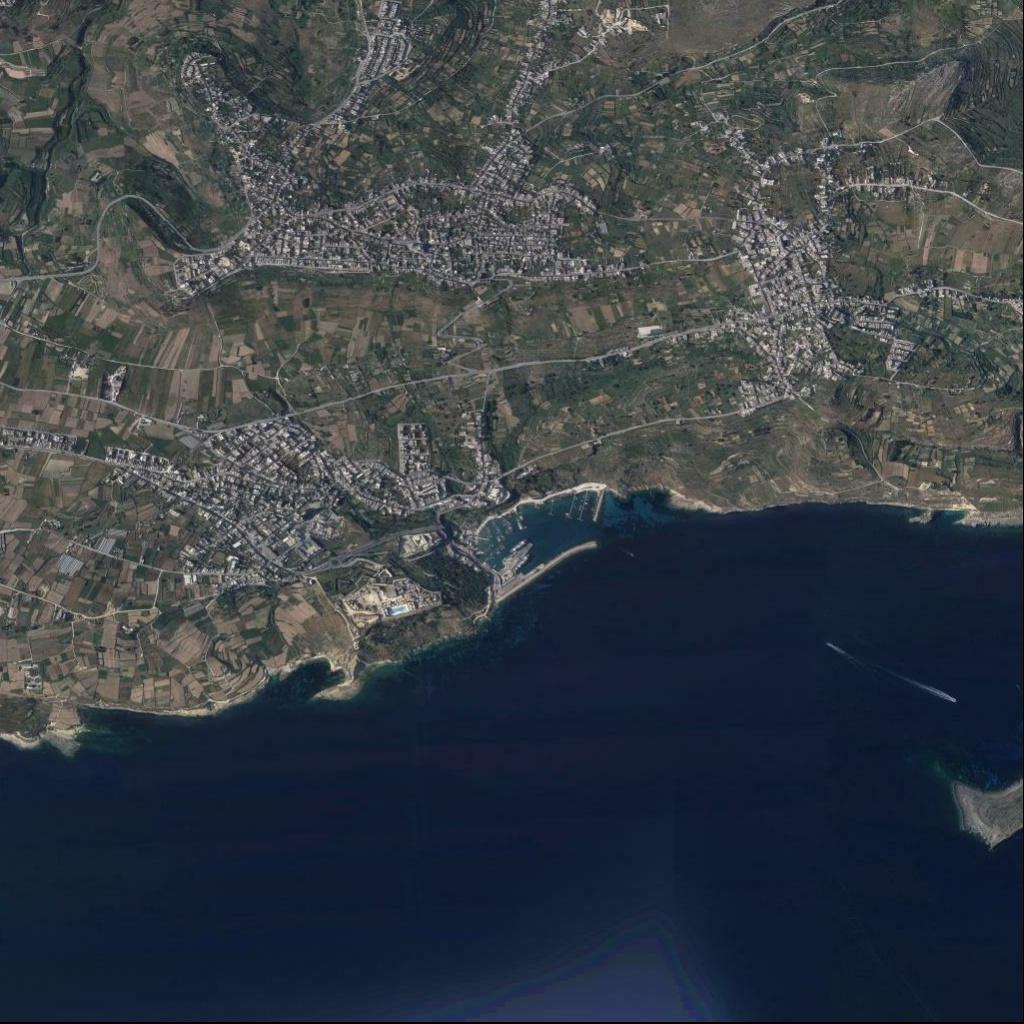harbor: (493, 537, 599, 603), (504, 543, 536, 572), (592, 492, 606, 522)
